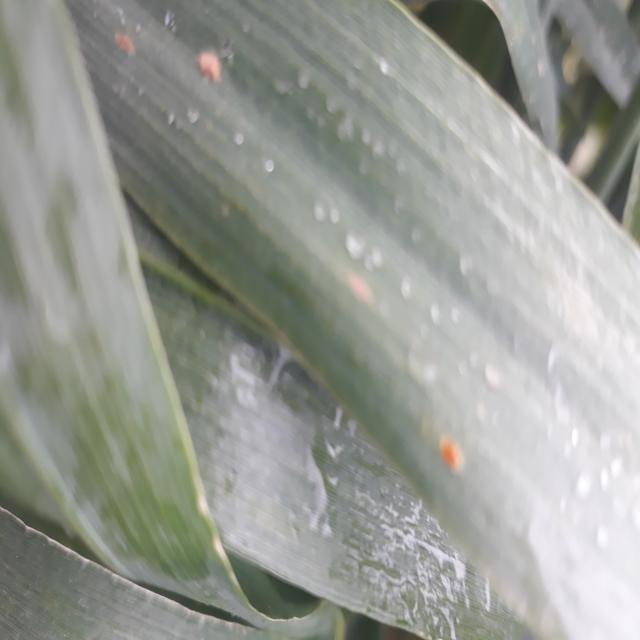orang_rust: (429, 397, 480, 518)
